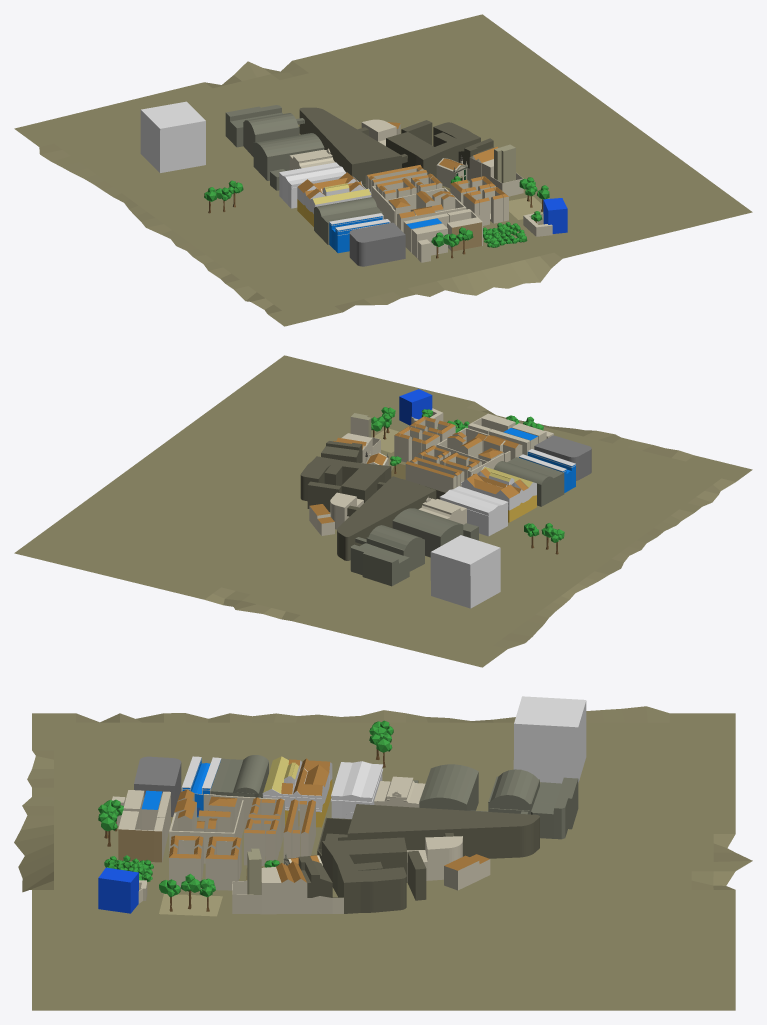
File: Comunidade.fbx
3 renders of one model, top to bottom at view 1: azimuth 30°, elevation 25°; view 2: azimuth 150°, elevation 25°; view 3: azimuth 270°, elevation 25°, orthographic. The views are drawn at different scales.
Visible parts, largest first — view 1: Plane, Cube.005, Cube.009, Cube.016, Cube.024, Cube, Cube.018, Cube.023, Cube.026, Cube.025, cesar, Cube.027 (+12 smaller); view 2: Plane, Cube.005, Cube.009, Cube, Cube.016, cesar, Cube.023, Cube.003, Cube.027, Cube.018, Cube.025, Cube.002 (+10 smaller); view 3: Plane, Cube.009, Cube.016, Cube.005, Cube.018, Cube, Cube.024, Cube.023, Cube.025, cesar, Cube.027, Cube.003 (+14 smaller).
Boxes of the visible parts, x1,y1,x2,y2 form: Plane: [14, 14, 752, 326]; Cube.005: [140, 101, 205, 172]; Cube.009: [299, 107, 407, 187]; Cube.016: [386, 120, 480, 177]; Cube.024: [403, 209, 482, 262]; Cube: [225, 105, 304, 156]; Cube.018: [458, 138, 523, 196]; Cube.023: [372, 186, 466, 232]; Cube.026: [349, 222, 405, 266]; Cube.025: [450, 176, 508, 225]; cesar: [297, 172, 371, 226]; Cube.027: [253, 133, 324, 180]; Plane: [14, 355, 752, 667]; Cube.005: [430, 535, 500, 608]; Cube.009: [337, 476, 445, 560]; Cube: [350, 525, 424, 586]; Cube.016: [300, 456, 391, 511]; cesar: [461, 466, 536, 522]; Cube.023: [436, 427, 522, 477]; Cube.003: [439, 486, 508, 536]; Cube.027: [392, 508, 463, 557]; Cube.018: [321, 413, 380, 463]; Cube.025: [394, 416, 455, 462]; Cube.002: [494, 457, 564, 506]; Plane: [14, 706, 752, 1010]; Cube.009: [317, 804, 539, 861]; Cube.016: [322, 837, 426, 913]; Cube.005: [513, 696, 586, 783]; Cube.018: [232, 848, 343, 914]; Cube: [470, 769, 578, 839]; Cube.024: [112, 790, 170, 862]; Cube.023: [169, 789, 284, 863]; Cube.025: [169, 835, 241, 890]; cesar: [262, 756, 332, 827]; Cube.027: [419, 764, 478, 810]; Cube.003: [331, 761, 383, 818].
Size of the model in its own units: 4169 by 492 by 4301.
